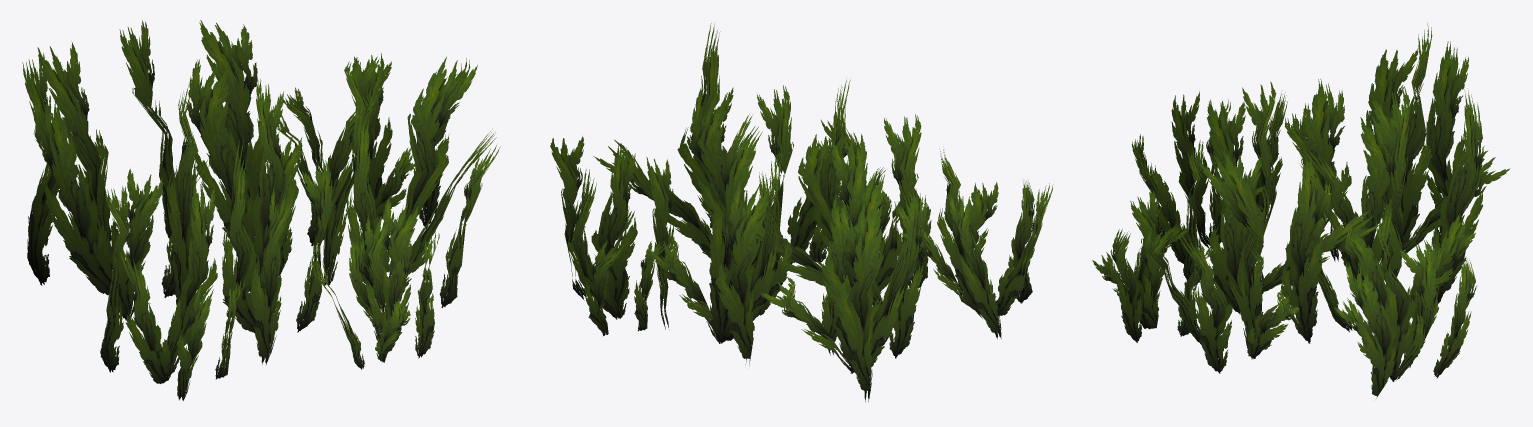
Rendered from SeaWeed07_AFS_LOD0.fbx.
3 renders of one model, left to right at view 1: azimuth 30°, elevation 25°; view 2: azimuth 150°, elevation 25°; view 3: azimuth 270°, elevation 25°, orthographic. The views are drawn at different scales.
Visible parts, largest first — view 1: SeaWeed07_AFS_high; view 2: SeaWeed07_AFS_high; view 3: SeaWeed07_AFS_high.
Boxes of the visible parts, bbox=[...] form: SeaWeed07_AFS_high: bbox=[22, 20, 500, 400]; SeaWeed07_AFS_high: bbox=[550, 23, 1053, 401]; SeaWeed07_AFS_high: bbox=[1092, 23, 1510, 398].
Size of the model in its own units: 1.05 by 0.5923 by 0.9506.
